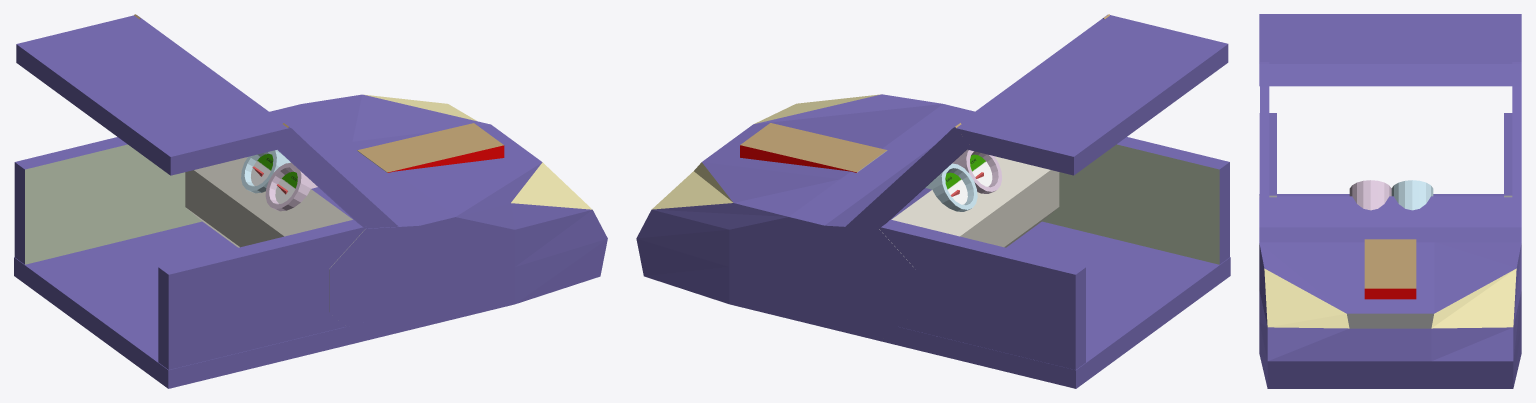
File: mscarNew2.dae
The picture shows the model from 3 angles, left to right: view 1: azimuth 30°, elevation 25°; view 2: azimuth 150°, elevation 25°; view 3: azimuth 270°, elevation 25°; orthographic projection. The views are drawn at different scales.
Parts seen in each view (by area): view 1: maska_Material__77, dach_Material__77, drzwiLewe_Material__7, pod_oga_Material__77, drzwiPrawe_Materi, maska_Material__75, akcent_Material__50, wspornikle_Material__, maska_Material__74, drzwiPrawe_Material__, czas_Material__49, zegar_Material__38 (+1 smaller); view 2: maska_Material__77, dach_Material__77, drzwiPrawe_Material__, pod_oga_Material__77, drzwiLewe_Materia, maska_Material__75, wspornikpr_Material__, akcent_Material__50, maska_Material__74, drzwiLewe_Material__7, zegar_Material__38, czas_Material__49 (+1 smaller); view 3: maska_Material__77, dach_Material__77, maska_Material__74, akcent_Material__50, maska_Material__79, wspornikpr_Material__, wspornikle_Material__, zegar_Material__38, czas_Material__49, drzwiLewe_Material__7, drzwiPrawe_Material__, akcent_Material__78 (+1 smaller).
Boxes of the visible parts, x1,y1,x2,y2 form: maska_Material__77: (269, 94, 607, 340); dach_Material__77: (16, 15, 306, 175); drzwiLewe_Material__7: (158, 219, 367, 369); pod_oga_Material__77: (14, 221, 365, 388); drzwiPrawe_Materi: (25, 144, 201, 264); maska_Material__75: (185, 157, 365, 311); akcent_Material__50: (357, 123, 503, 172); wspornikle_Material__: (277, 127, 398, 228); maska_Material__74: (364, 94, 592, 209); drzwiPrawe_Material__: (14, 137, 127, 264); czas_Material__49: (265, 162, 317, 211); zegar_Material__38: (241, 150, 290, 193); maska_Material__77: (636, 94, 974, 341); dach_Material__77: (938, 14, 1228, 175); drzwiPrawe_Material__: (879, 219, 1085, 369); pod_oga_Material__77: (881, 221, 1230, 388); drzwiLewe_Materia: (1042, 144, 1219, 264); maska_Material__75: (879, 156, 1059, 266); wspornikpr_Material__: (831, 127, 970, 258); akcent_Material__50: (740, 123, 886, 172); maska_Material__74: (652, 94, 880, 209); drzwiLewe_Material__7: (1117, 137, 1229, 264); zegar_Material__38: (925, 163, 977, 211); czas_Material__49: (952, 149, 1001, 193); maska_Material__77: (1259, 196, 1521, 388); dach_Material__77: (1259, 14, 1521, 86); maska_Material__74: (1264, 268, 1516, 328); akcent_Material__50: (1364, 239, 1416, 288); maska_Material__79: (1347, 313, 1433, 328); wspornikpr_Material__: (1512, 62, 1521, 215); wspornikle_Material__: (1260, 62, 1269, 215); zegar_Material__38: (1391, 180, 1433, 210); czas_Material__49: (1349, 180, 1391, 210); drzwiLewe_Material__7: (1259, 113, 1276, 195); drzwiPrawe_Material__: (1504, 113, 1512, 195); akcent_Material__78: (1364, 288, 1416, 299).
Size of the model in its own units: 4.91 by 2.95 by 2.45.
Materials: 13 (2 with a texture image).
